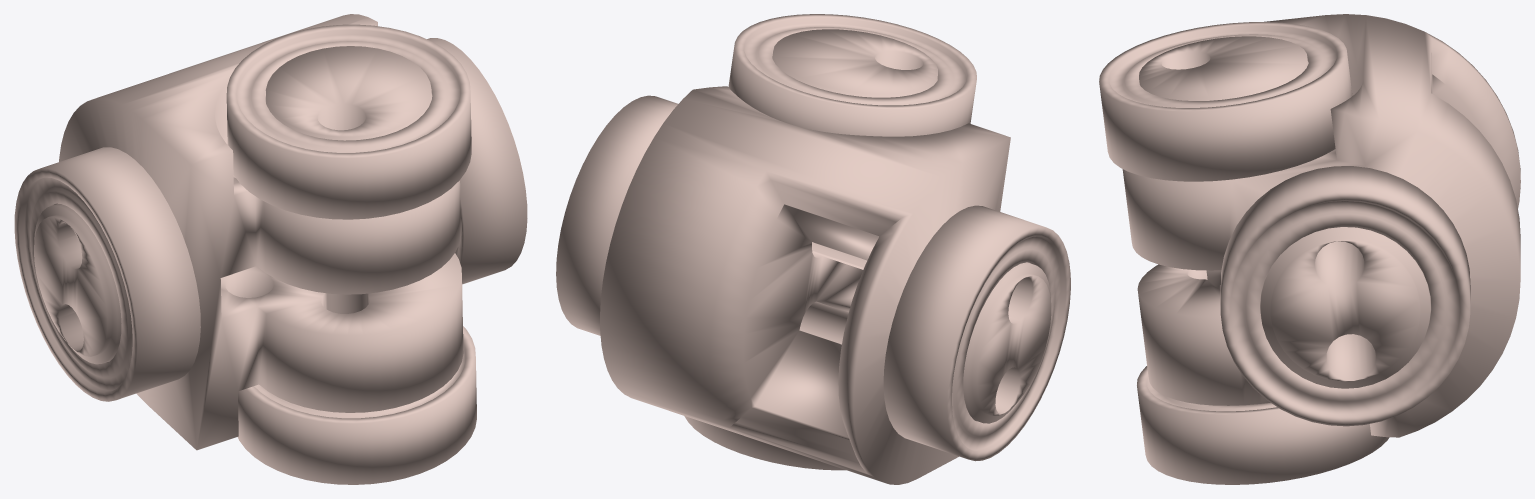
The model's file is ring_knuckle_1.obj.
3 views of the same model, side by side, from view 1: azimuth 30°, elevation 25°; view 2: azimuth 150°, elevation 25°; view 3: azimuth 270°, elevation 25° (orthographic). The views are drawn at different scales.
Bounding box in the file's own units: 19.45 × 17.28 × 16.87.
